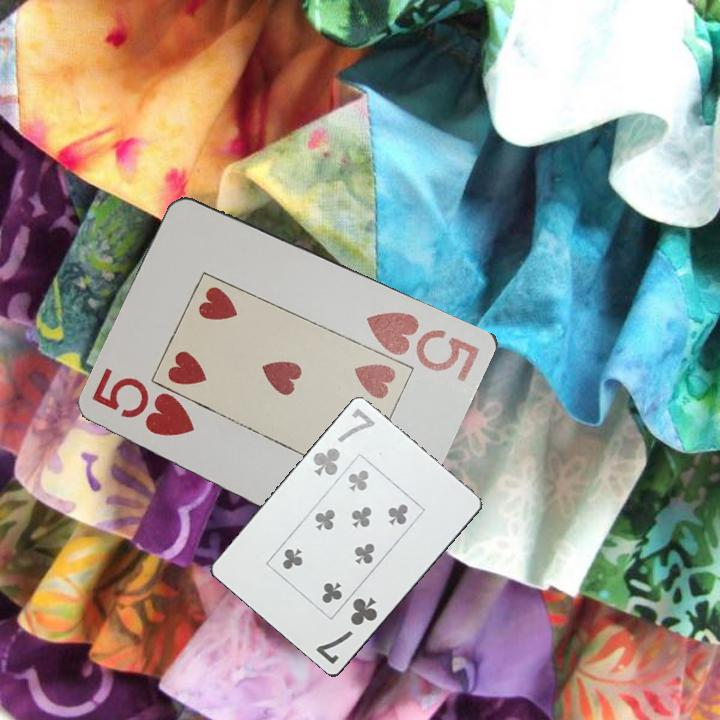5h: (363, 307, 484, 385), (89, 370, 200, 439)
7c: (309, 404, 378, 480), (312, 593, 380, 668)
